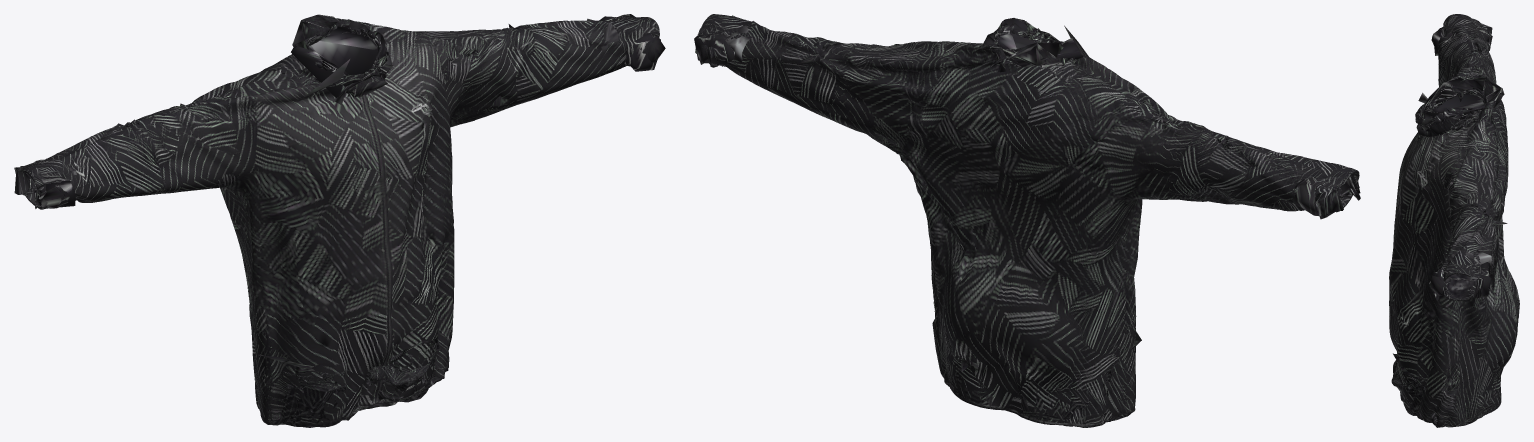
The picture shows the model from 3 angles, left to right: view 1: azimuth 30°, elevation 25°; view 2: azimuth 150°, elevation 25°; view 3: azimuth 270°, elevation 25°; orthographic projection. The views are drawn at different scales.
Parts seen in each view (by area): view 1: Mesh_0.001; view 2: Mesh_0.001; view 3: Mesh_0.001.
Part boxes in pixels (<box>): Mesh_0.001: <box>14,14,665,427</box>; Mesh_0.001: <box>694,14,1360,427</box>; Mesh_0.001: <box>1389,14,1519,427</box>.
Bounding box in the file's own units: 1.73 × 0.9639 × 0.3676.
1 material, 1 textured.
